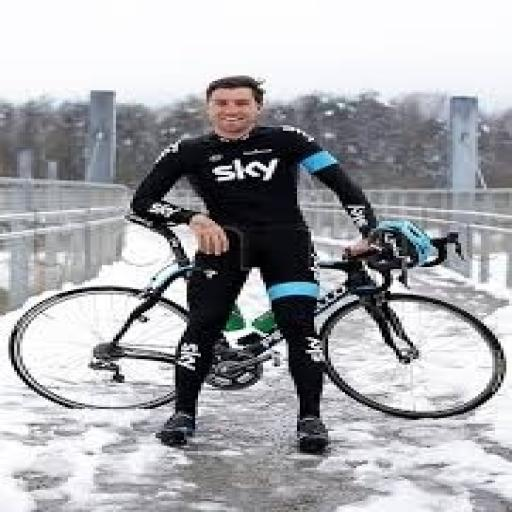cycling: (124, 74, 384, 453)
